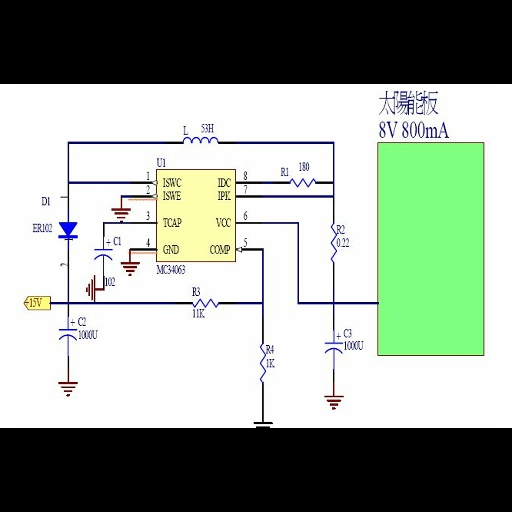firstdiode: (56, 218, 80, 240)
firstpolarcapacitor: (320, 330, 343, 358), (57, 318, 78, 343), (93, 237, 113, 262)
gnd: (319, 392, 348, 412), (52, 381, 84, 397), (80, 270, 96, 302), (108, 207, 133, 222), (119, 261, 141, 276), (249, 420, 277, 428)
inductor: (178, 135, 226, 146)
secondresistance: (255, 336, 266, 385), (326, 219, 337, 266), (185, 297, 227, 309), (287, 175, 319, 188)
